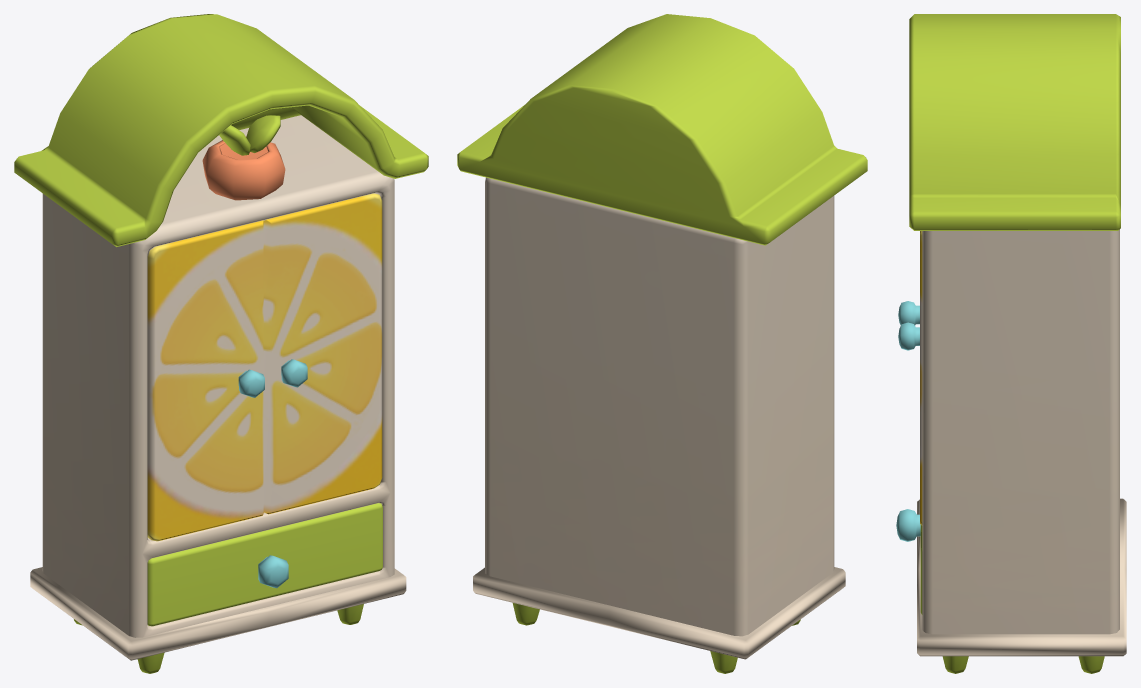
File: Homestead_nm_7.fbx
3 views of the same model, side by side, from view 1: azimuth 30°, elevation 25°; view 2: azimuth 150°, elevation 25°; view 3: azimuth 270°, elevation 25° (orthographic). The views are drawn at different scales.
Parts seen in each view (by area): view 1: Homestead_nm_7; view 2: Homestead_nm_7; view 3: Homestead_nm_7.
Part boxes in pixels (<box>): Homestead_nm_7: <box>14,14,428,673</box>; Homestead_nm_7: <box>457,14,867,673</box>; Homestead_nm_7: <box>896,14,1126,673</box>.
Size of the model in its own units: 256 by 441 by 156.
